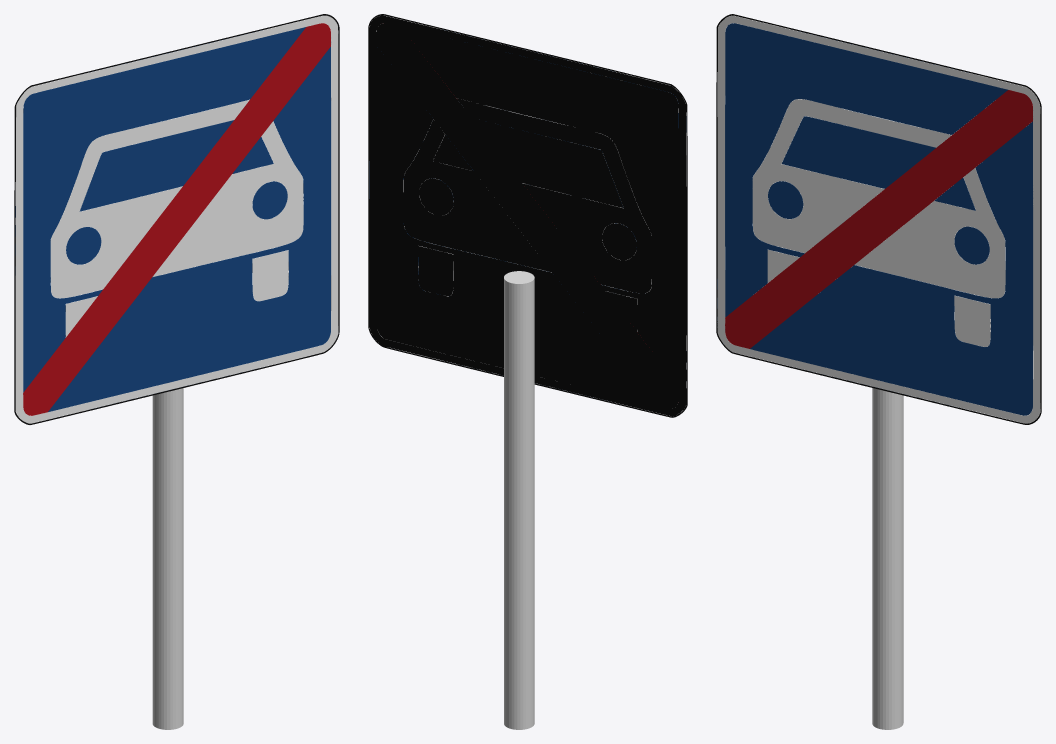
The model's file is Expressway_end.dae.
3 views of the same model, side by side, from view 1: azimuth 30°, elevation 25°; view 2: azimuth 150°, elevation 25°; view 3: azimuth 330°, elevation 25° (orthographic).
Parts seen in each view (by area): view 1: path43, Cylinder; view 2: path43, Cylinder; view 3: path43, Cylinder.
Part boxes in pixels (box(x1,y1,x2,y2)): path43: box(14, 14, 339, 424); Cylinder: box(152, 272, 183, 729); path43: box(368, 14, 687, 417); Cylinder: box(504, 271, 534, 729); path43: box(716, 14, 1041, 424); Cylinder: box(872, 269, 903, 729).
Bounding box in the file's own units: 0.15 × 0.0134 × 0.2995.
